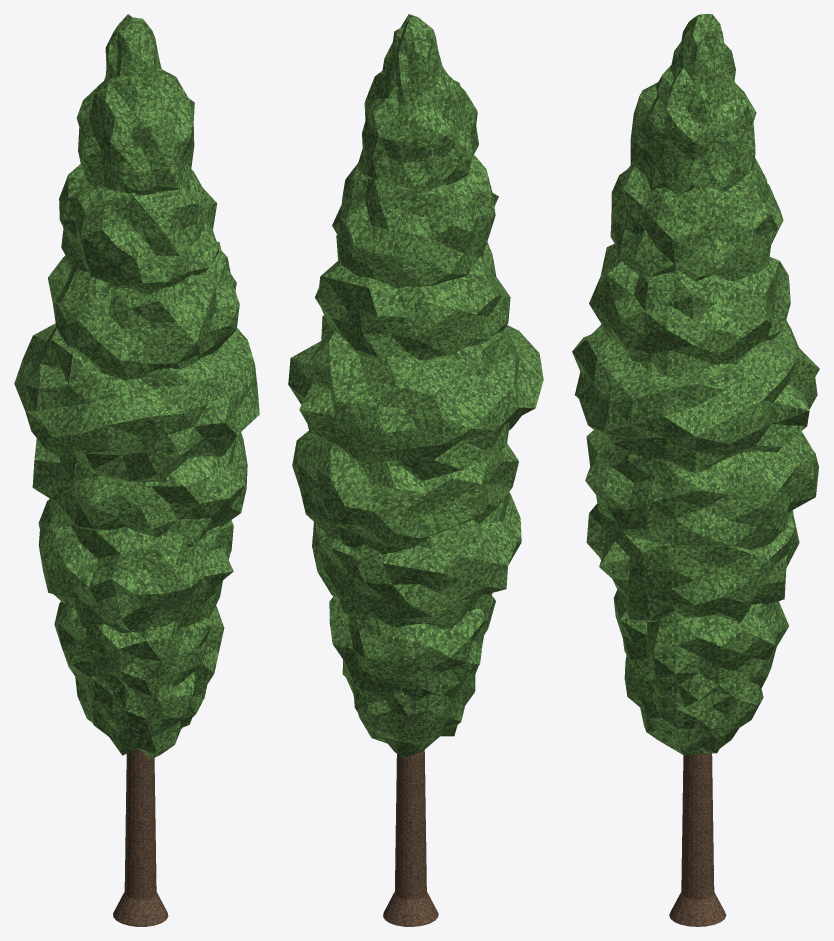
3 views of the same model, side by side, from view 1: azimuth 30°, elevation 25°; view 2: azimuth 150°, elevation 25°; view 3: azimuth 270°, elevation 25° (orthographic).
Visible parts, largest first — view 1: canopyDiameter=2;clearTrunkHeight=1.5;foliageMaterial=foliag (×2); view 2: canopyDiameter=2;clearTrunkHeight=1.5;foliageMaterial=foliag (×2); view 3: canopyDiameter=2;clearTrunkHeight=1.5;foliageMaterial=foliag (×2).
Part boxes in pixels (<box>): canopyDiameter=2;clearTrunkHeight=1.5;foliageMaterial=foliag (×2): <box>14,14,259,926</box>; canopyDiameter=2;clearTrunkHeight=1.5;foliageMaterial=foliag (×2): <box>288,14,543,926</box>; canopyDiameter=2;clearTrunkHeight=1.5;foliageMaterial=foliag (×2): <box>572,14,819,926</box>.
Bounding box in the file's own units: 2 × 2 × 8.
2 materials, 2 textured.
